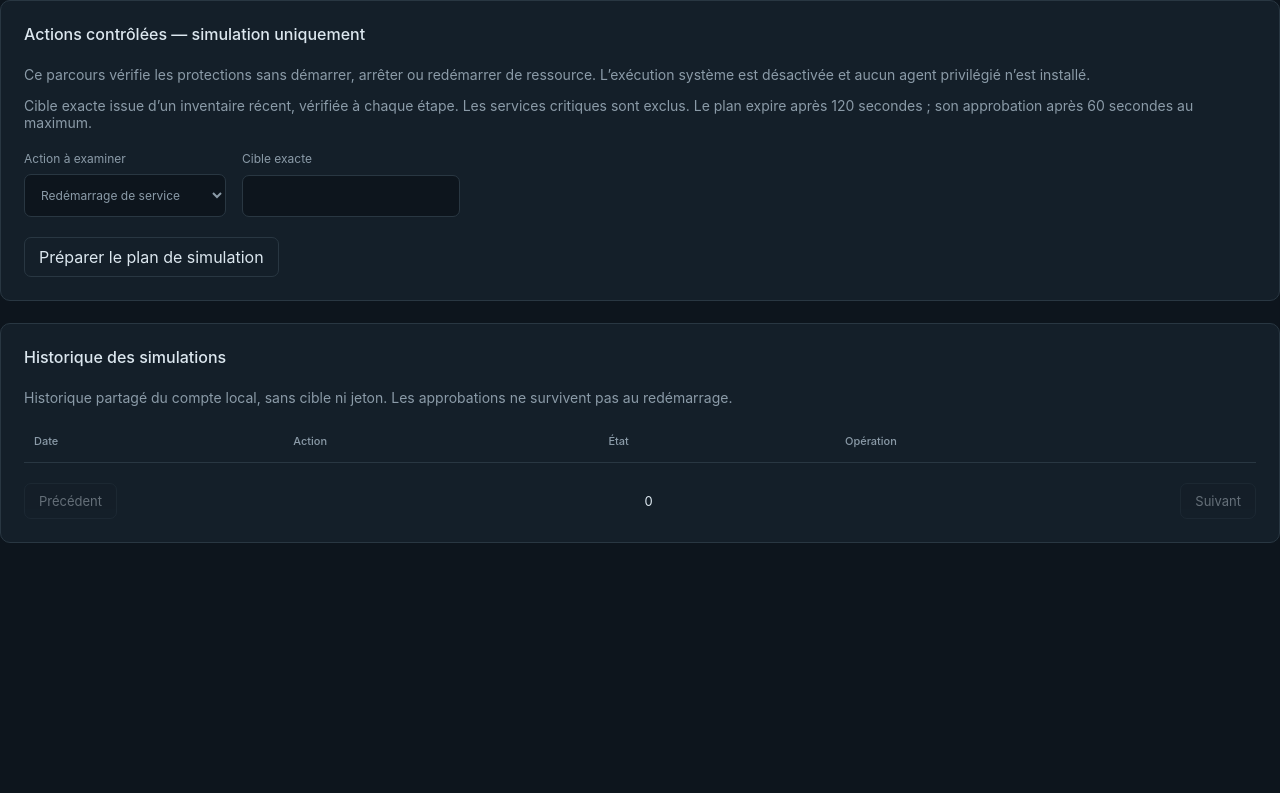
Test case: requires plan review and explicit approval before simulation, without storing its token
Expected: the button "Lancer la simulation approuvée" is not shown
In the field labelled "Cible exacte": (351, 196) x1=242 y1=175 x2=460 y2=217, type "cron.service"
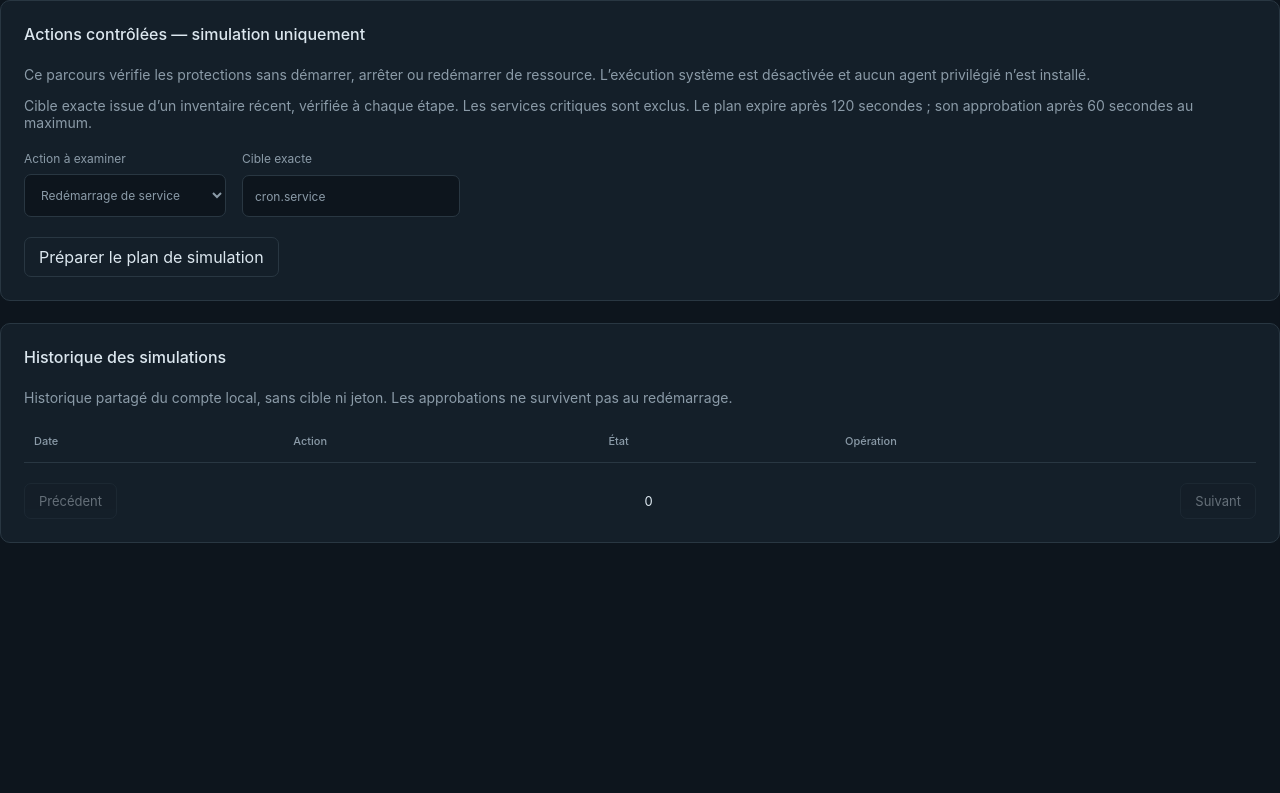
Click the button "Préparer le plan de simulation": (151, 257) x1=24 y1=237 x2=279 y2=277
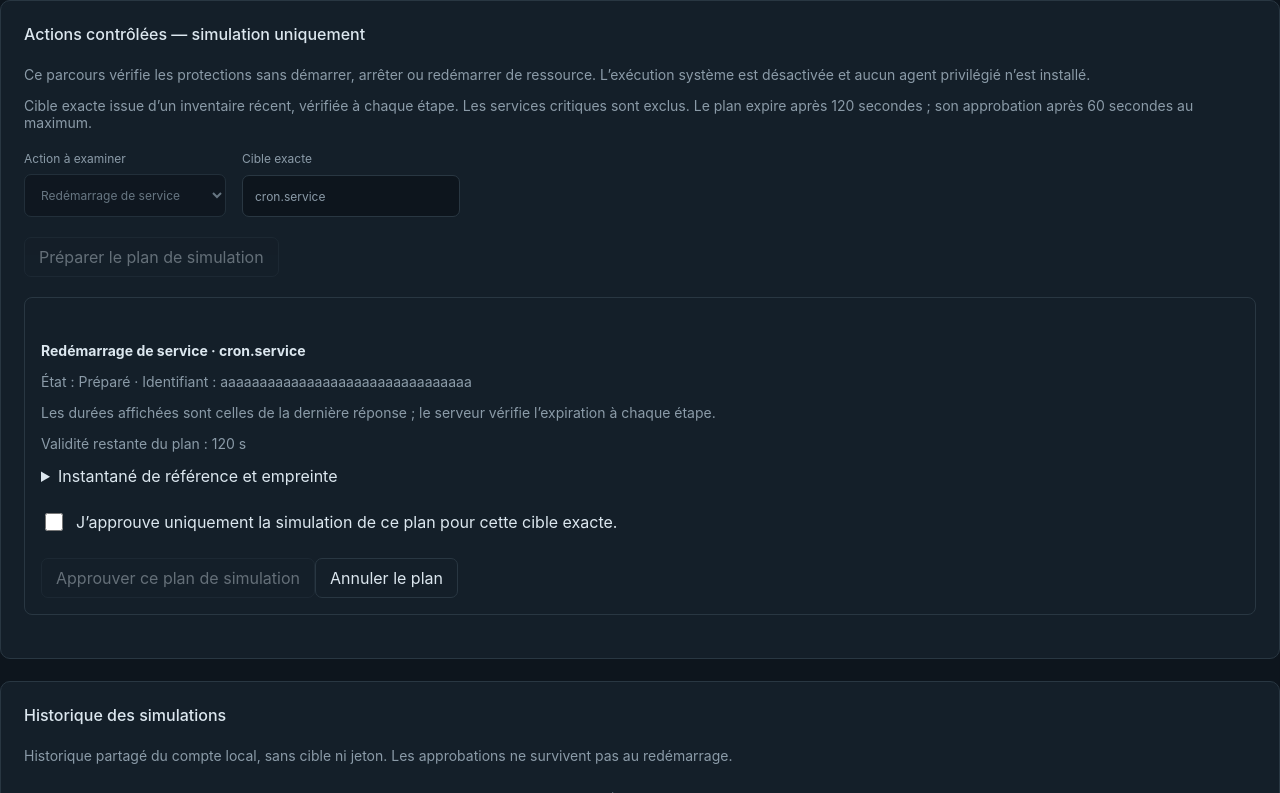
Expected: the field labelled "Cible exacte" is disabled, x1=242 y1=175 x2=460 y2=217
Expected: the heading "Redémarrage de service · cron.service" is shown, x1=41 y1=342 x2=306 y2=359
Expected: the button "Approuver ce plan de simulation" is disabled, x1=41 y1=558 x2=315 y2=598
Click the checkbox: (54, 522) x1=45 y1=513 x2=63 y2=531
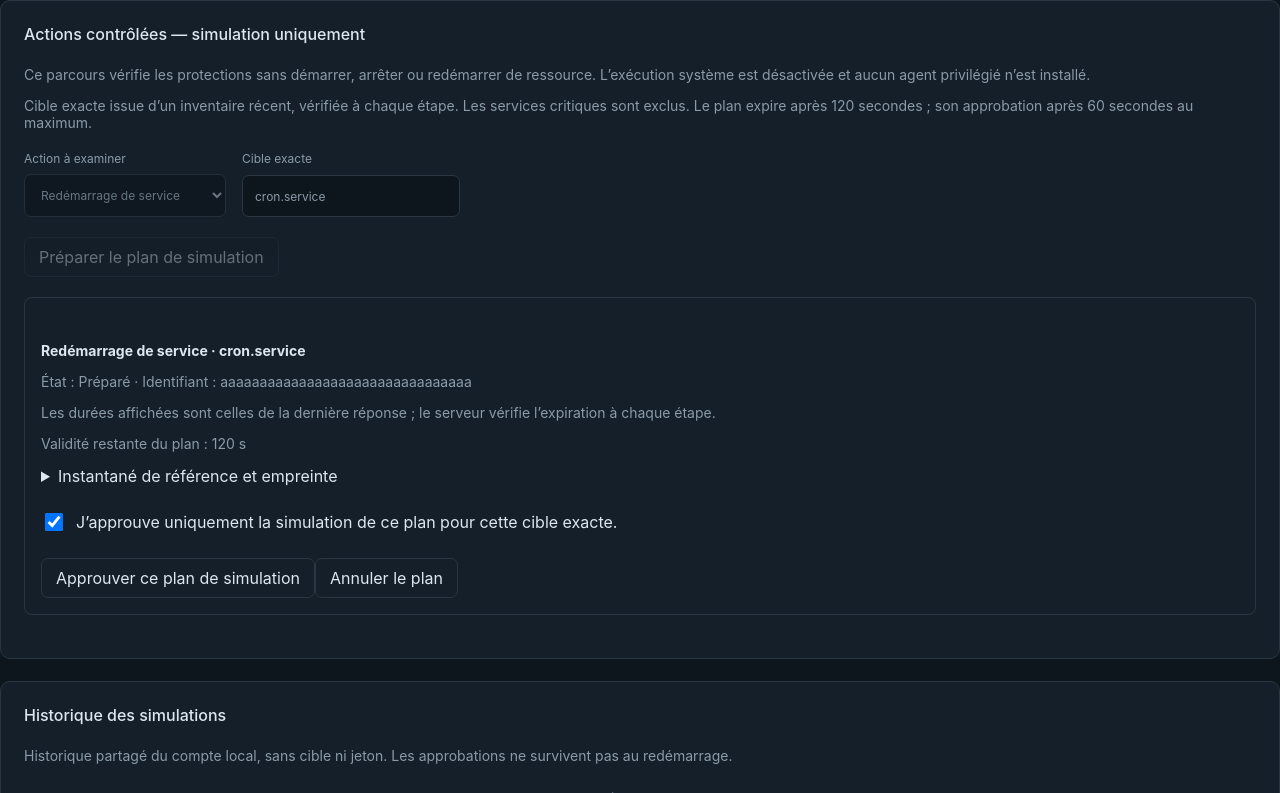
Click the button "Approuver ce plan de simulation": (178, 578) x1=41 y1=558 x2=315 y2=598
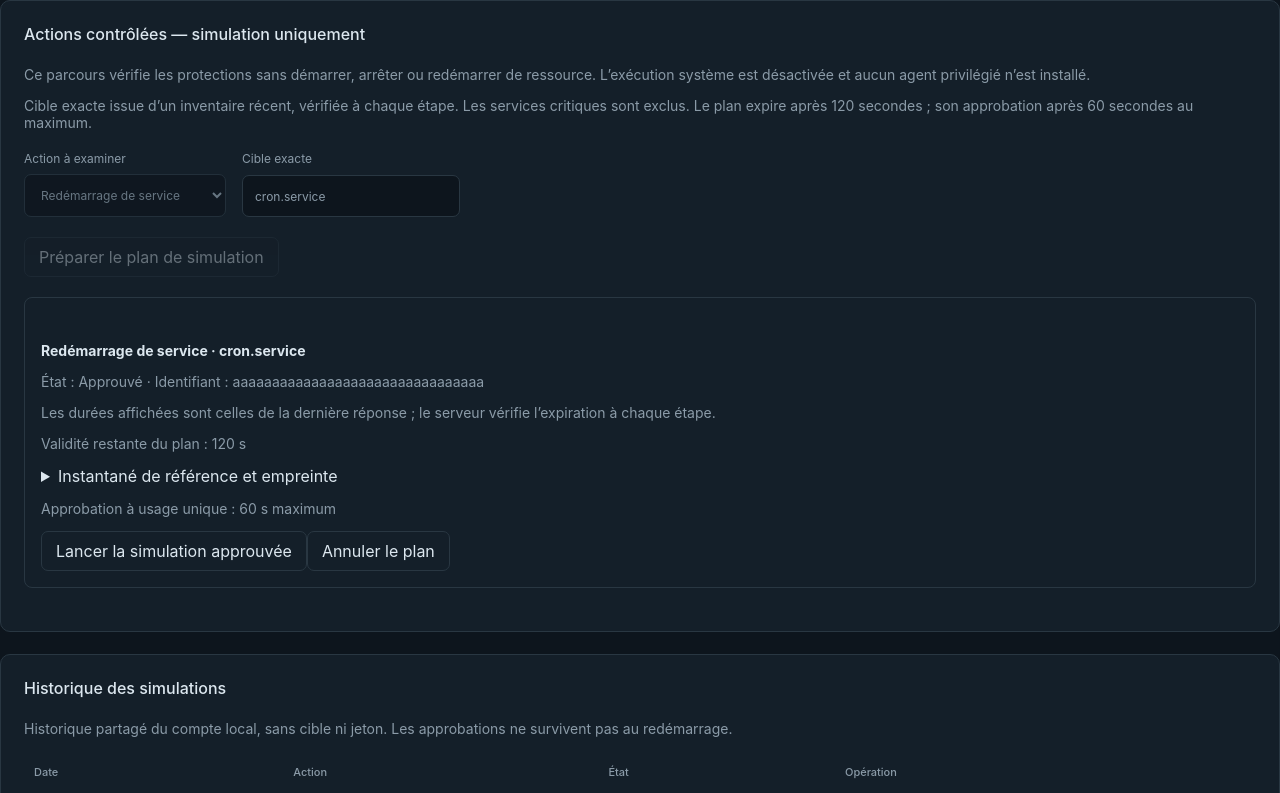
Click the button "Lancer la simulation approuvée": (174, 551) x1=41 y1=531 x2=307 y2=571
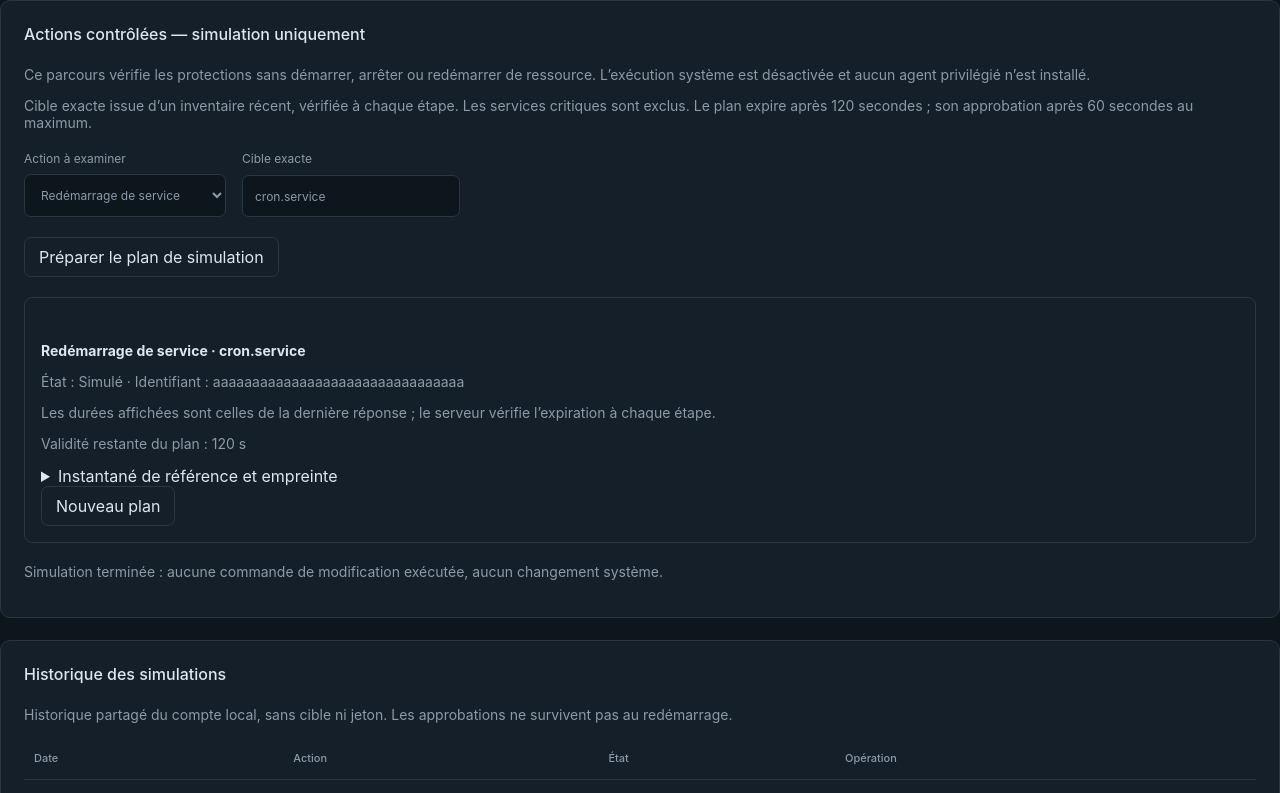
Expected: the text "Simulation terminée : aucune commande de modification exécutée, aucun changement système." is shown, x1=24 y1=563 x2=663 y2=580
Expected: the button "Lancer la simulation approuvée" is gone
